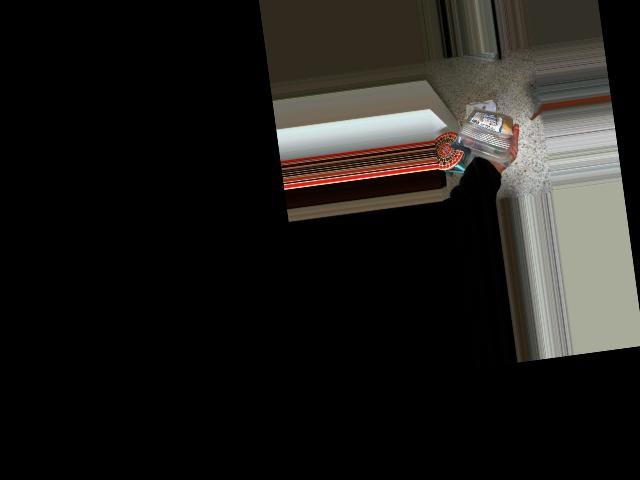cheese: (441, 92, 517, 174)
